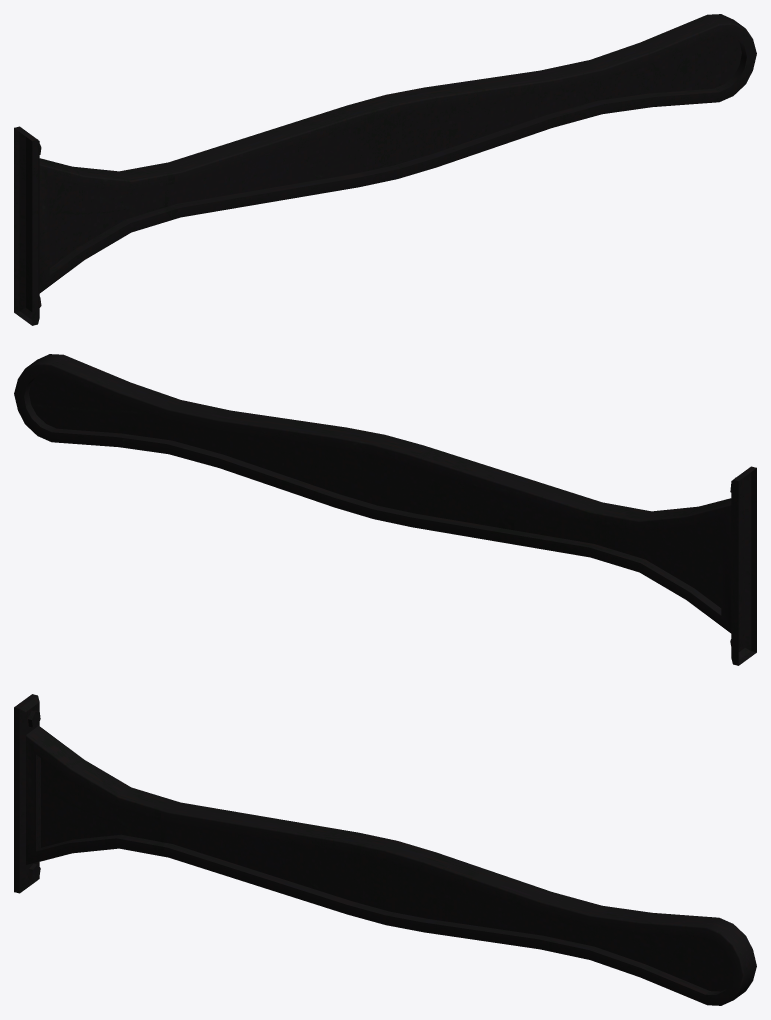
Rendered from cP_Fence03_Post.dae.
The picture shows the model from 3 angles, top to bottom: view 1: azimuth 30°, elevation 25°; view 2: azimuth 150°, elevation 25°; view 3: azimuth 330°, elevation 25°; orthographic projection.
Parts seen in each view (by area): view 1: cP_Fence03_Post.001; view 2: cP_Fence03_Post.001; view 3: cP_Fence03_Post.001.
Part boxes in pixels (box(x1,y1,x2,y2)): cP_Fence03_Post.001: box(14, 14, 756, 325); cP_Fence03_Post.001: box(14, 354, 756, 665); cP_Fence03_Post.001: box(14, 694, 756, 1005).
Size of the model in its own units: 1.19 by 0.0518 by 0.2888.
